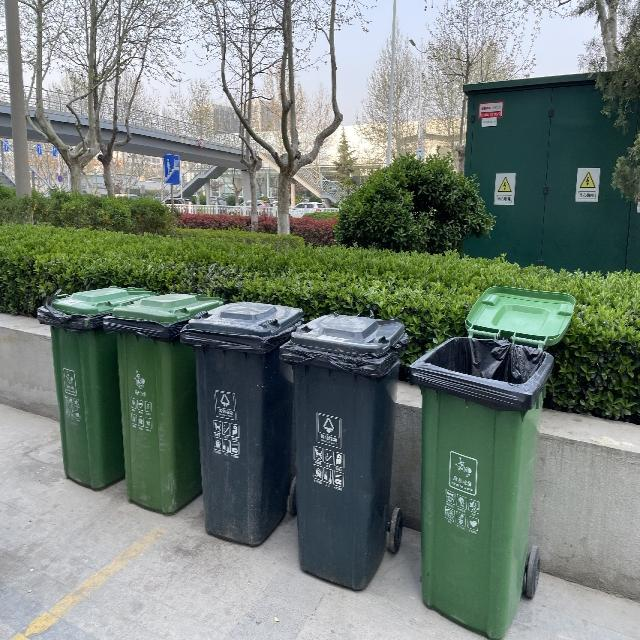garbage_bin: (408, 334, 553, 639), (279, 312, 409, 592), (180, 299, 302, 548), (102, 289, 218, 516), (36, 285, 151, 491)
